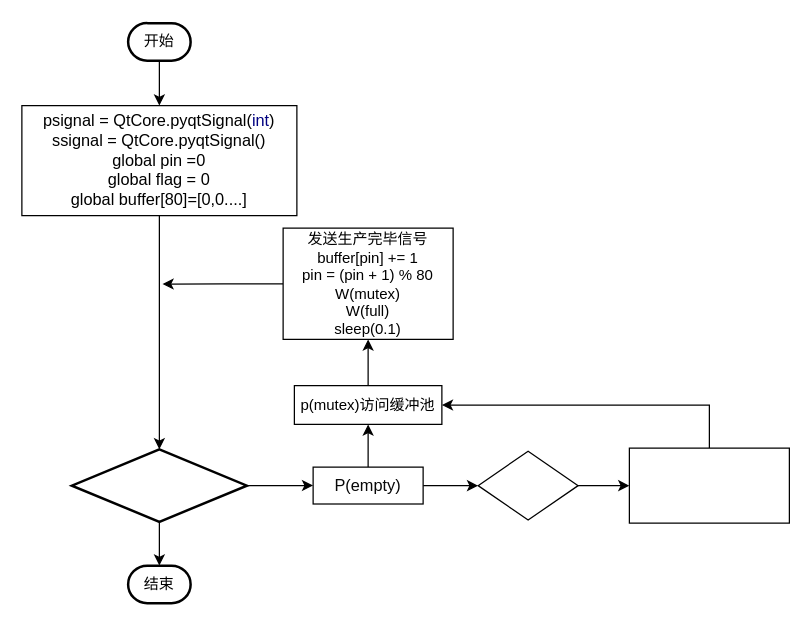
Some shapes in this 811 by 625 pixel diagram are drawn without their labels. The shapes that lost their labels are listed below. From the top down, each one's centre as x and y in pixels, then its label:
At (x=159, y=485): "接收到结束信号？".
At (x=527, y=485): "flag==1?".
At (x=708, y=485): "发送停止生产信号 p(cmutex)停止执行进程，等待w(cmutex)".
